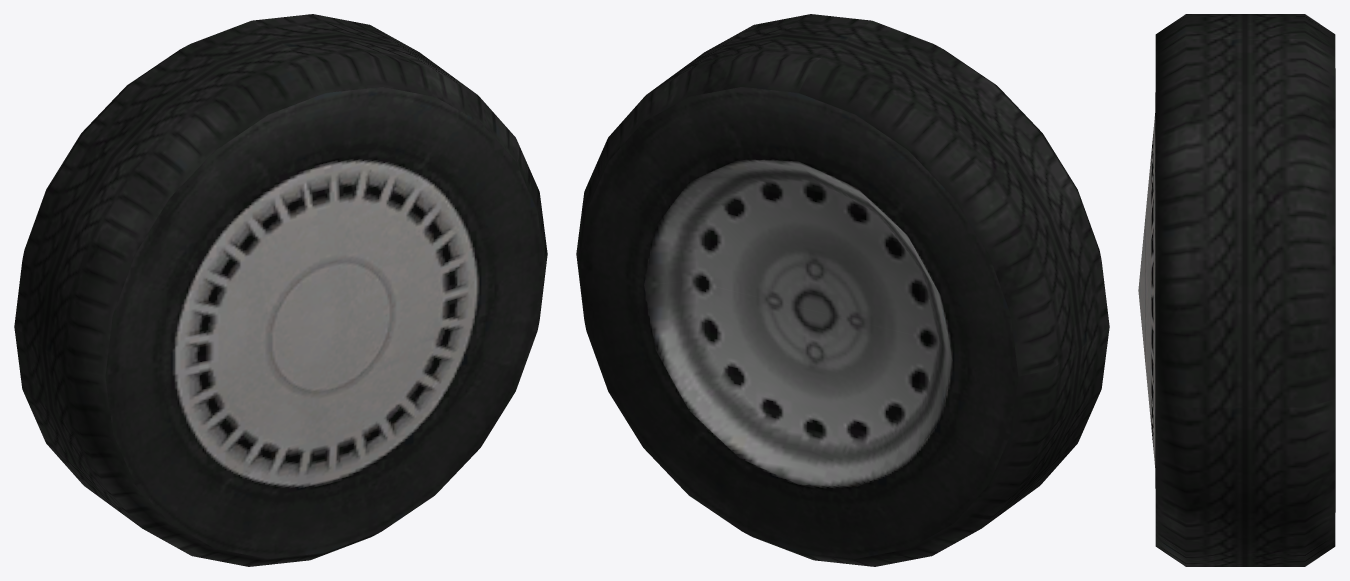
The model's file is V_A_2DrCoupe_Wheels_4_SkeletalMesh3_PartMesh.psk.glb.
3 views of the same model, side by side, from view 1: azimuth 30°, elevation 25°; view 2: azimuth 150°, elevation 25°; view 3: azimuth 270°, elevation 25° (orthographic).
Size of the model in its own units: 68.94 by 68.94 by 24.5.
1 material, 1 textured.
